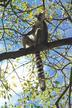cat: (24, 13, 52, 92)
